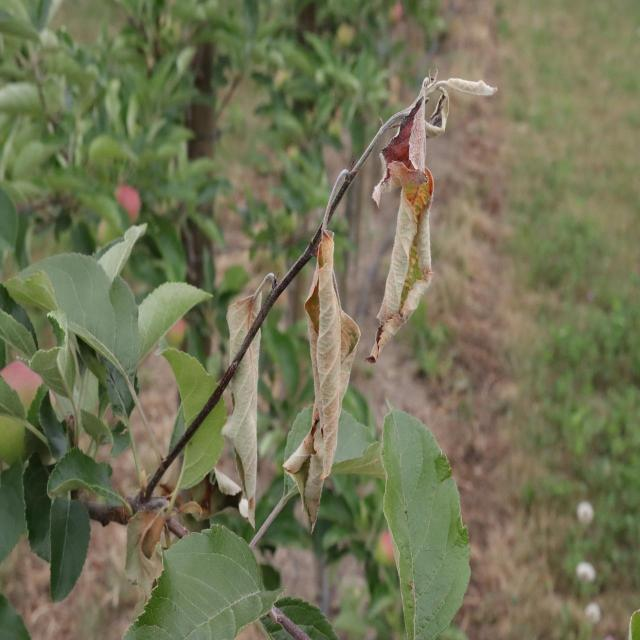-FireBlight-: (374, 120, 446, 338), (208, 306, 276, 527), (320, 228, 358, 542), (104, 501, 178, 622)
